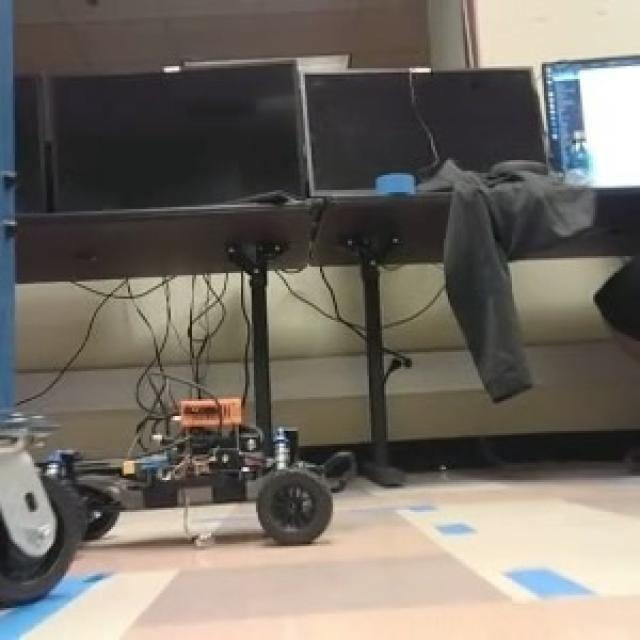obstacle: (78, 398, 330, 541)
